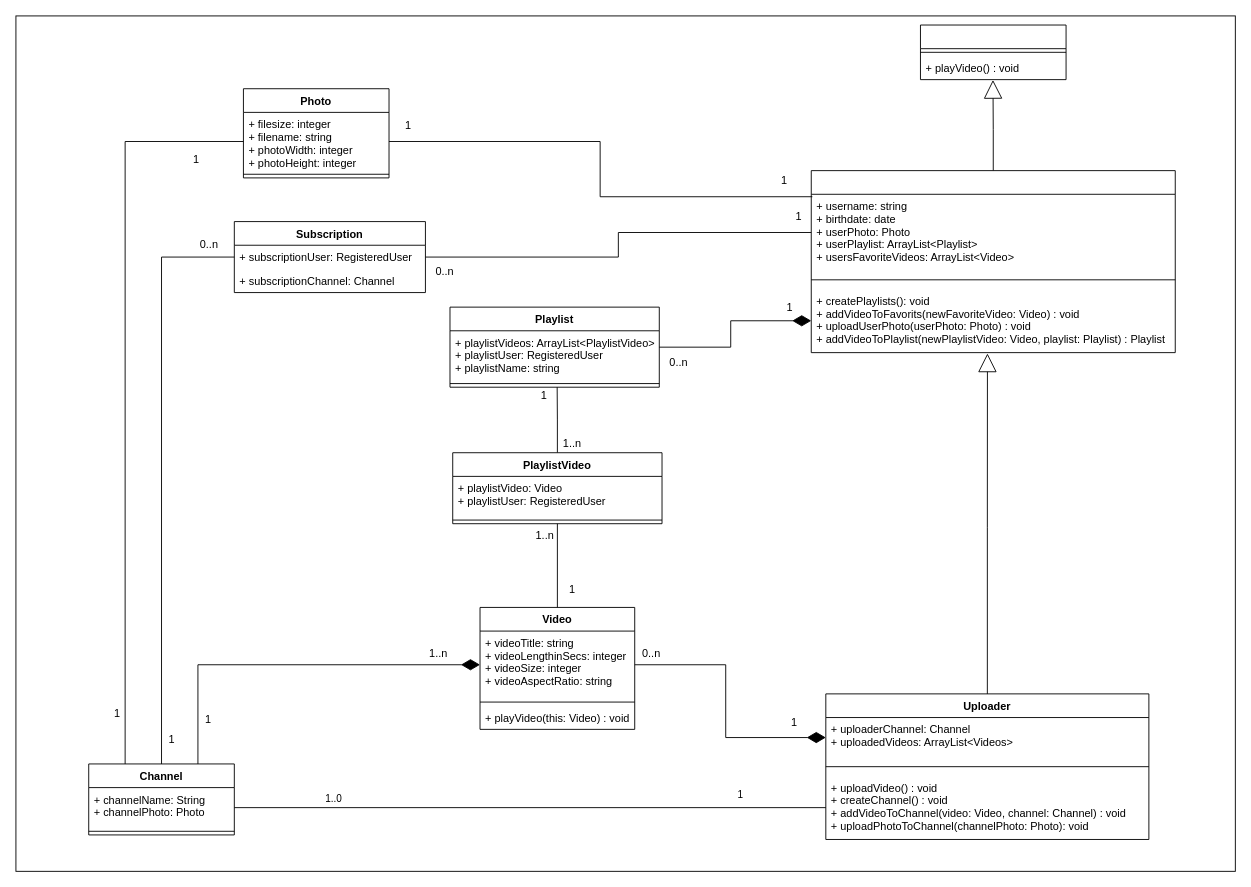
Image size: 1251x887. Some labels were removed from this diagram. The shapes that lost their labels are listed below. From the top down, each one's box as (x1, y1, x2, y2) in pixels, then its label:
(920, 24, 1066, 80): User
(810, 170, 1175, 353): RegisteredUser
